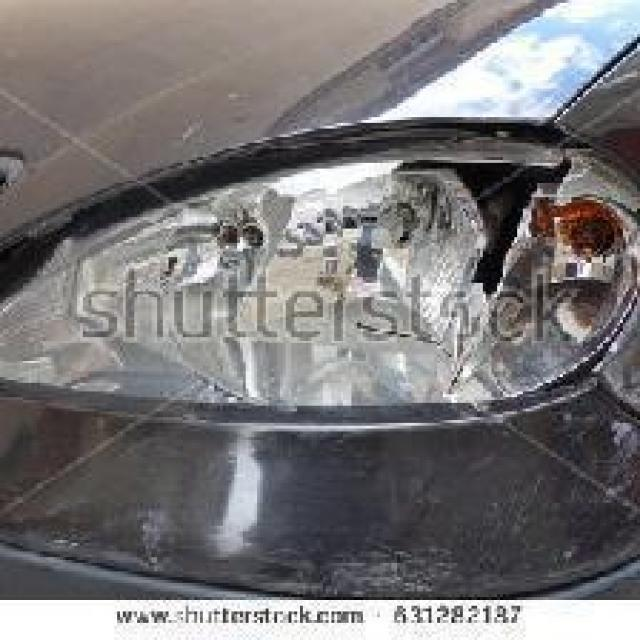damaged: (311, 157, 600, 414)
